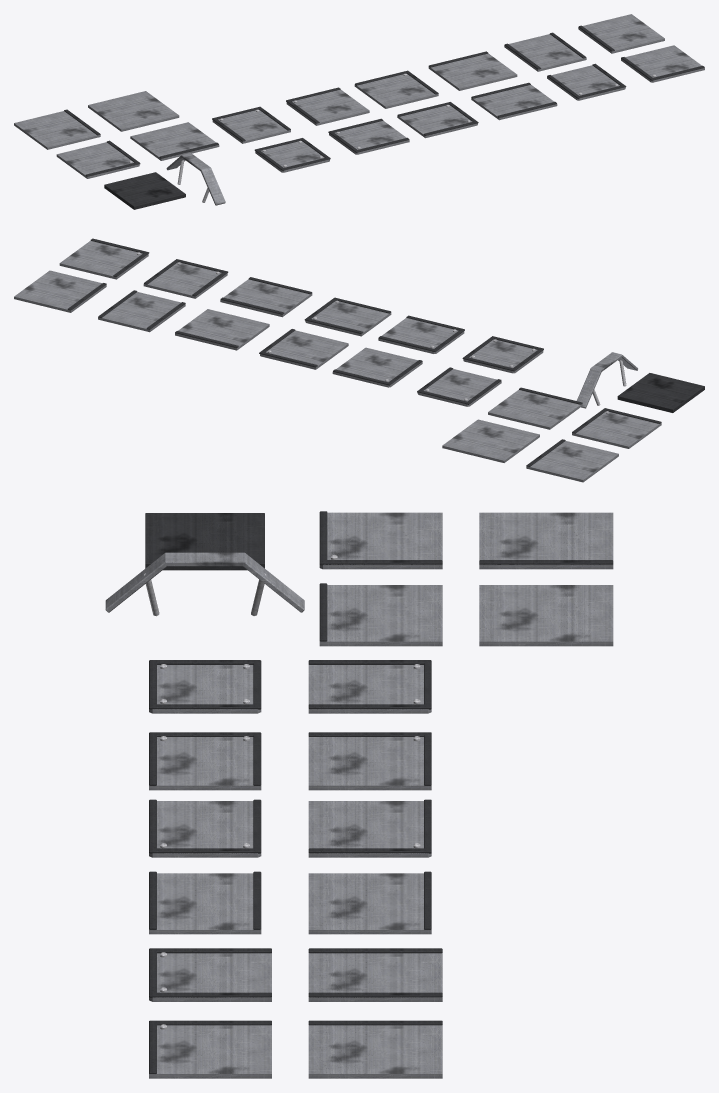
Rendered from R4H_HullKit.glb.
3 views of the same model, one above another, from view 1: azimuth 30°, elevation 25°; view 2: azimuth 150°, elevation 25°; view 3: azimuth 270°, elevation 25° (orthographic). The views are drawn at different scales.
Parts seen in each view (by area): view 1: plate_15, plate_11, plate_14, plate_13, plate_07, plate_10, plate_09, plate_03, plate_06, plate_12, plate_05, gasket (+6 smaller); view 2: plate_15, plate_07, plate_14, plate_11, plate_13, plate_06, plate_03, plate_05, plate_10, plate_12, plate_09, gasket (+6 smaller); view 3: plate_15, plate_13, plate_14, plate_07, plate_11, plate_09, plate_12, plate_05, plate_06, plate_10, plate_03, plate_08 (+6 smaller).
Boxes of the visible parts, <box> form: plate_15: <box>88,91,179,131</box>; plate_11: <box>428,51,517,90</box>; plate_14: <box>14,109,100,149</box>; plate_13: <box>578,14,664,53</box>; plate_07: <box>130,122,219,160</box>; plate_10: <box>354,70,438,108</box>; plate_09: <box>286,87,369,125</box>; plate_03: <box>471,82,557,120</box>; plate_06: <box>56,140,140,178</box>; plate_12: <box>504,32,586,71</box>; plate_05: <box>621,45,704,82</box>; gasket: <box>104,172,185,209</box>; plate_15: <box>442,419,539,462</box>; plate_07: <box>488,387,582,429</box>; plate_14: <box>526,439,618,482</box>; plate_11: <box>175,309,269,350</box>; plate_13: <box>14,270,106,312</box>; plate_06: <box>572,408,661,448</box>; plate_03: <box>220,277,312,317</box>; plate_05: <box>59,238,149,279</box>; plate_10: <box>259,329,348,369</box>; plate_12: <box>98,290,185,332</box>; plate_09: <box>332,347,422,387</box>; gasket: <box>617,373,704,412</box>; plate_15: <box>479,585,613,646</box>; plate_13: <box>308,1020,442,1078</box>; plate_14: <box>479,512,613,569</box>; plate_07: <box>319,583,442,646</box>; plate_11: <box>308,871,431,934</box>; plate_09: <box>308,732,431,790</box>; plate_12: <box>308,948,442,1001</box>; plate_05: <box>149,1020,271,1078</box>; plate_06: <box>319,511,442,569</box>; plate_10: <box>308,799,431,857</box>; plate_03: <box>149,871,261,934</box>; plate_08: <box>308,660,431,713</box>.
Size of the model in its own units: 5.45 by 0.2852 by 2.08.
Materials: 3 (3 with a texture image).
